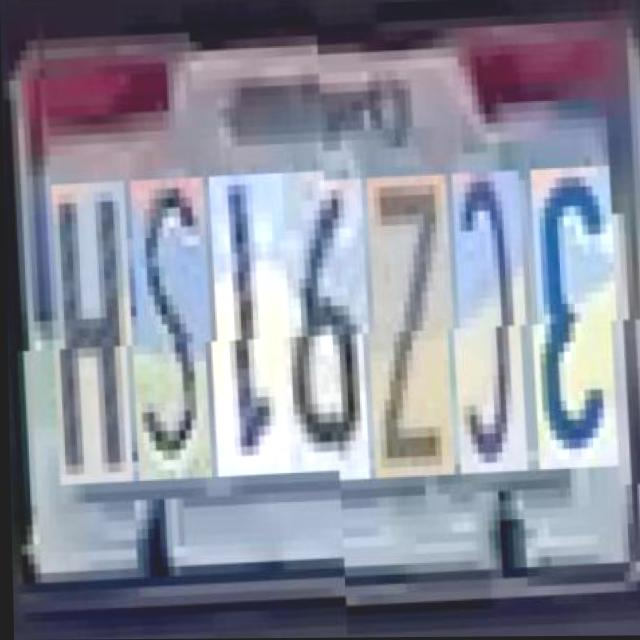1: (205, 169, 289, 473)
3: (526, 156, 617, 460)
9: (277, 166, 369, 470)
c: (447, 160, 527, 464)
h: (48, 176, 132, 480)
s: (126, 173, 210, 477)
z: (362, 163, 454, 467)
